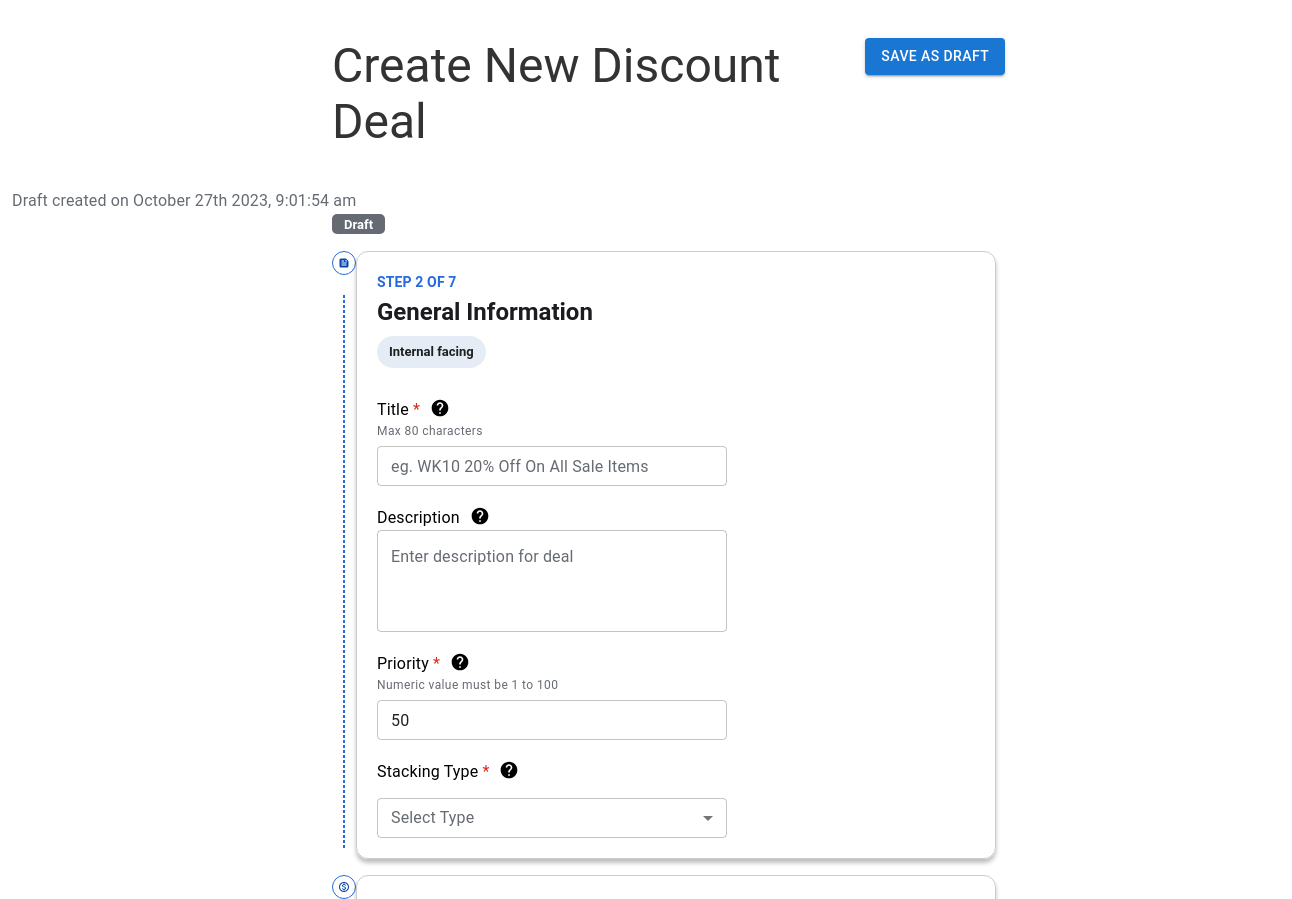
Test: Create deal form tests › Priority field tests › Proper error messages are displayed for priority field with less than 1
Replace the text in the number field with test id "priority" with "0": (541,720) [377, 692, 705, 748]
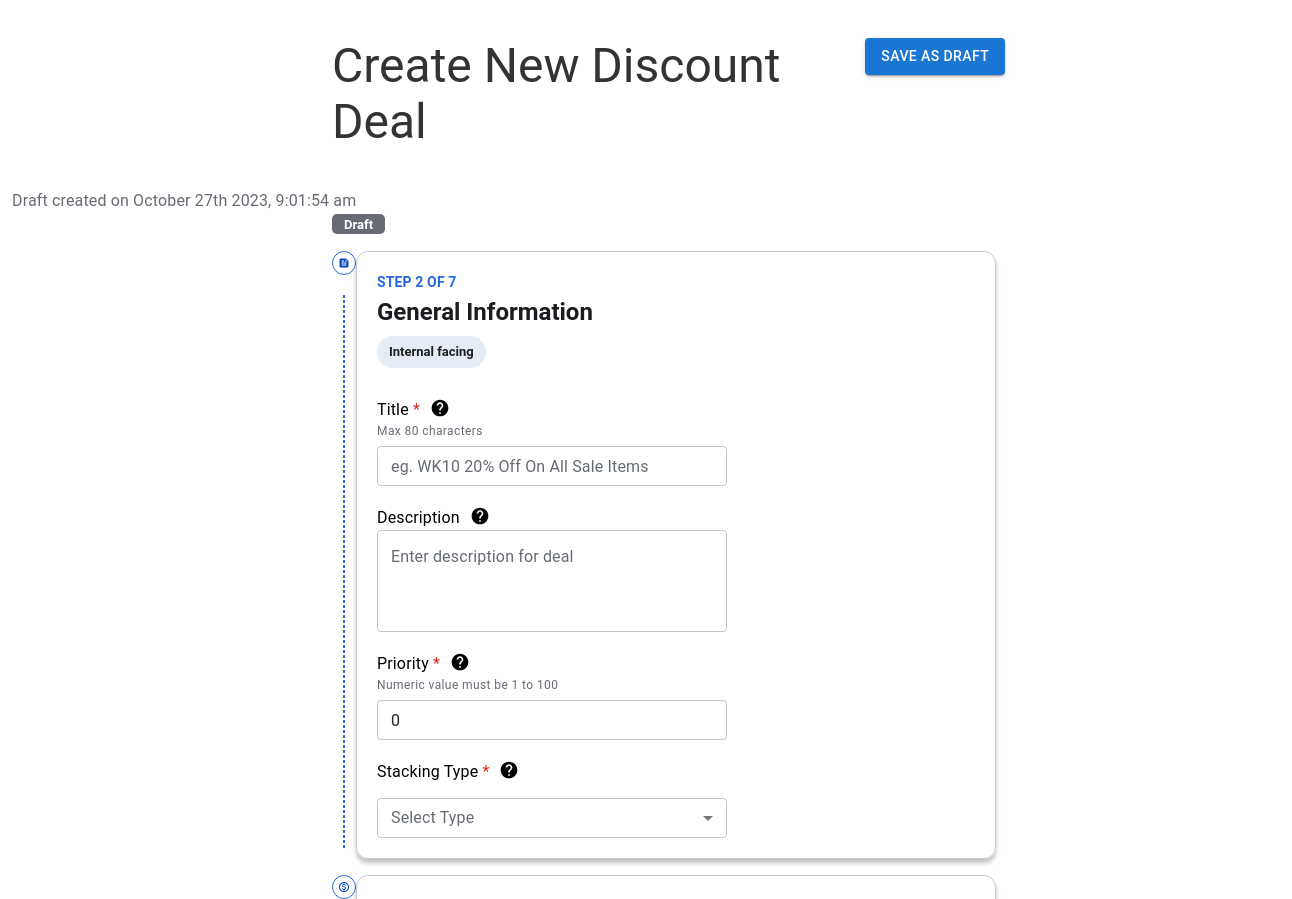
Leave the number field with test id "priority", box [377, 692, 705, 748]
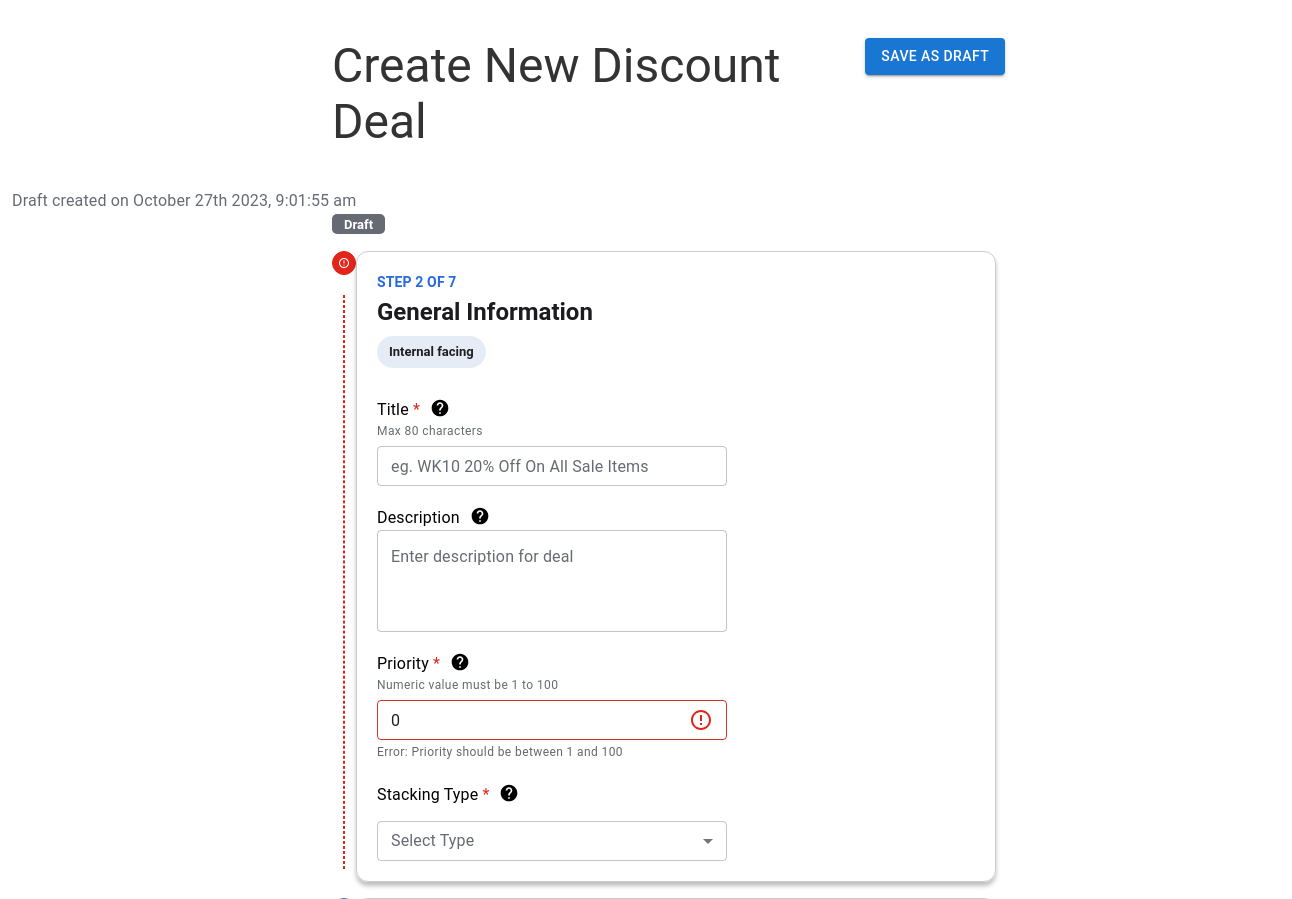
Expected: the text with test id "priority-field-error" reads "Error: Priority should be between 1 and 100", [377, 745, 623, 759]
